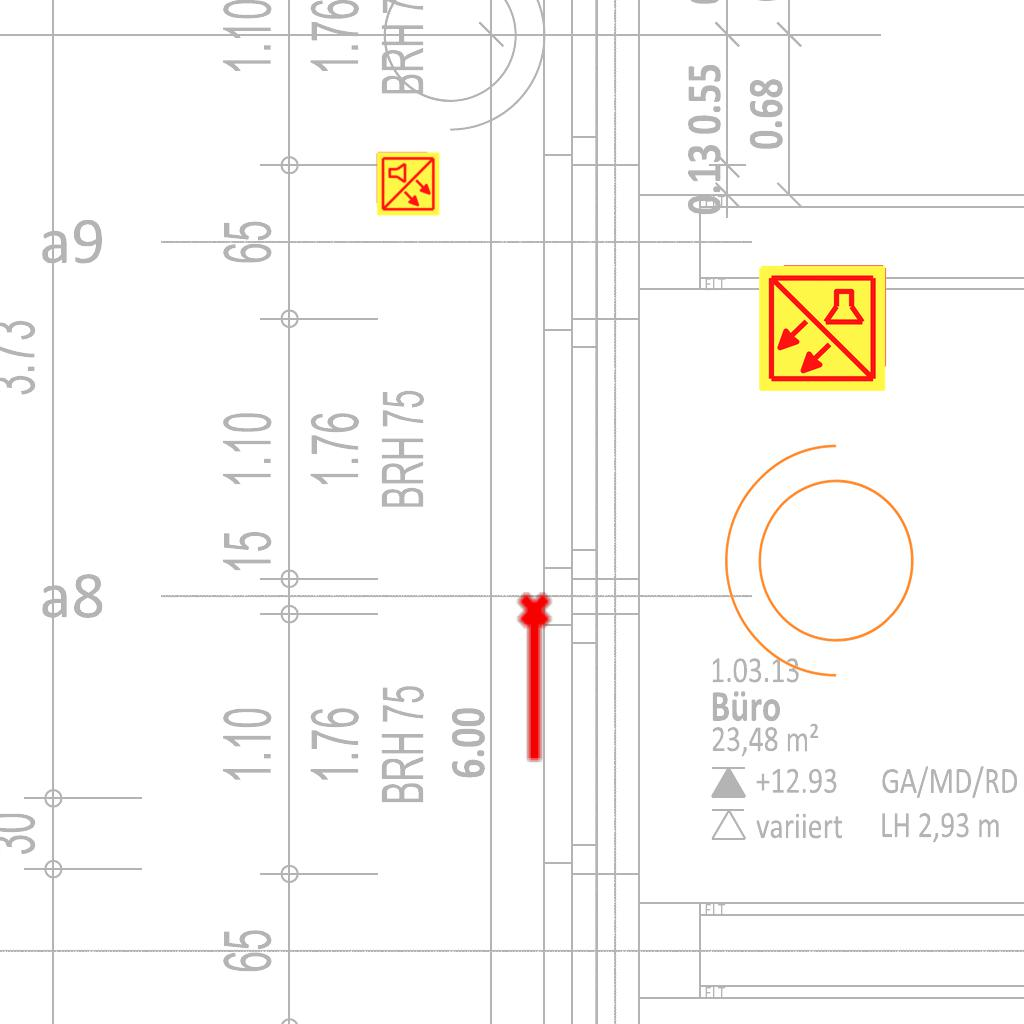ASR_Ansaugoeffnung: (514, 590, 560, 766)
OKW_Multisensormelder_(Kombination_optischer_Rauch-Kahlenmonoxid_Waerme-Melder): (756, 262, 888, 394), (375, 151, 441, 217)
Scheinwerfer_fuer_Alarmbeleuchtung: (714, 435, 939, 699)
